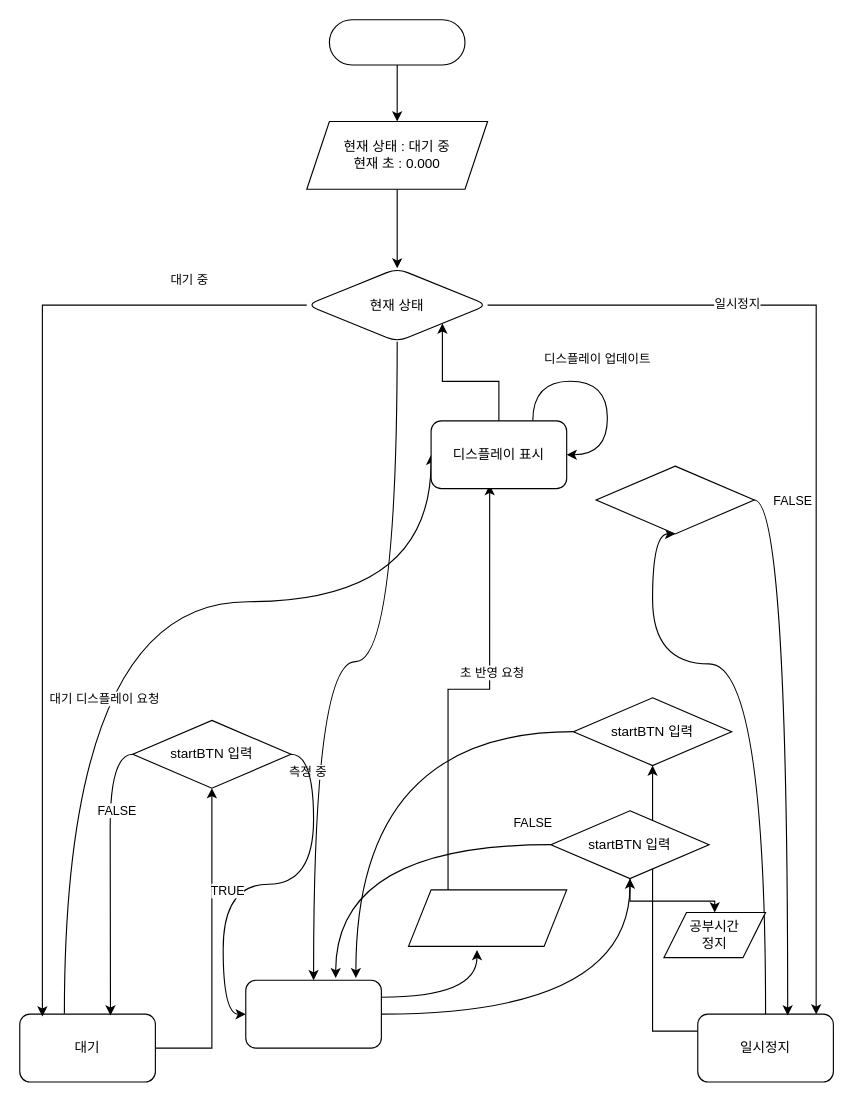
Image size: 853x1102. Some labels were removed from this diagram. Each missing label, with the box of its shape:
resetBTN 입력: (595, 465, 754, 534)
공부시간 측정: (245, 979, 381, 1048)
매 초마다 공부시간 증가: (407, 889, 567, 946)
프로그램 시작: (328, 19, 465, 65)
